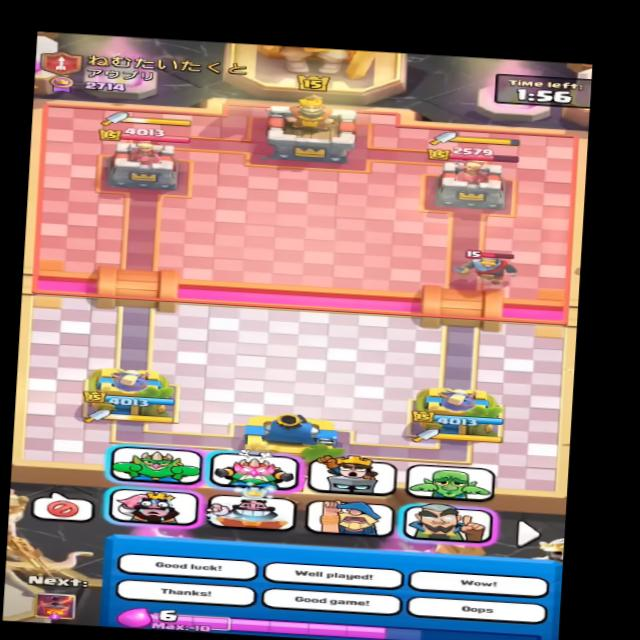Knight: (451, 246, 524, 290)
